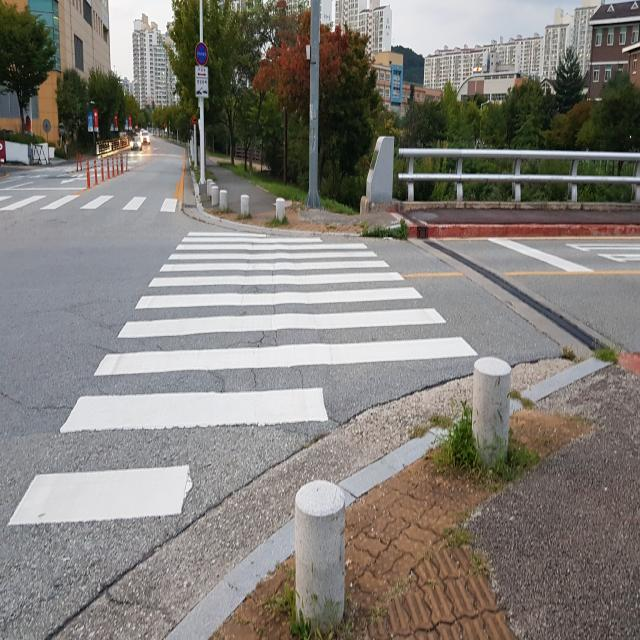횡단보도: (8, 232, 478, 526), (0, 186, 180, 216)
